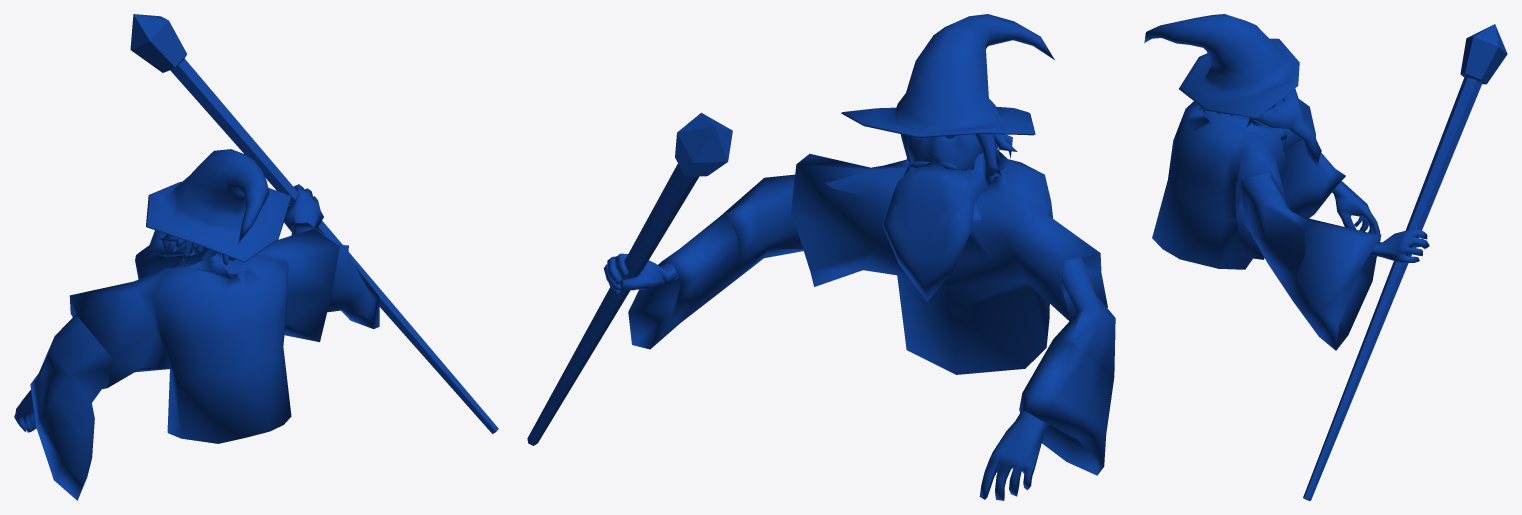
Rendered from top_000042.obj.
3 renders of one model, left to right at view 1: azimuth 30°, elevation 25°; view 2: azimuth 150°, elevation 25°; view 3: azimuth 270°, elevation 25°, orthographic. The views are drawn at different scales.
Parts seen in each view (by area): view 1: Wizard.002_Plane.002; view 2: Wizard.002_Plane.002; view 3: Wizard.002_Plane.002.
Boxes of the visible parts, x1,y1,x2,y2 form: Wizard.002_Plane.002: [14, 14, 498, 500]; Wizard.002_Plane.002: [527, 14, 1115, 500]; Wizard.002_Plane.002: [1144, 14, 1507, 500].
Size of the model in its own units: 1.64 by 1.37 by 1.24.
